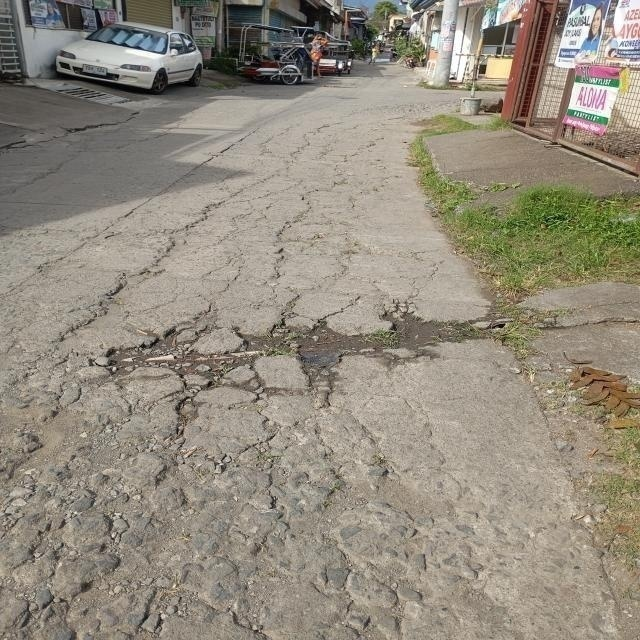pothole: (71, 267, 499, 418)
